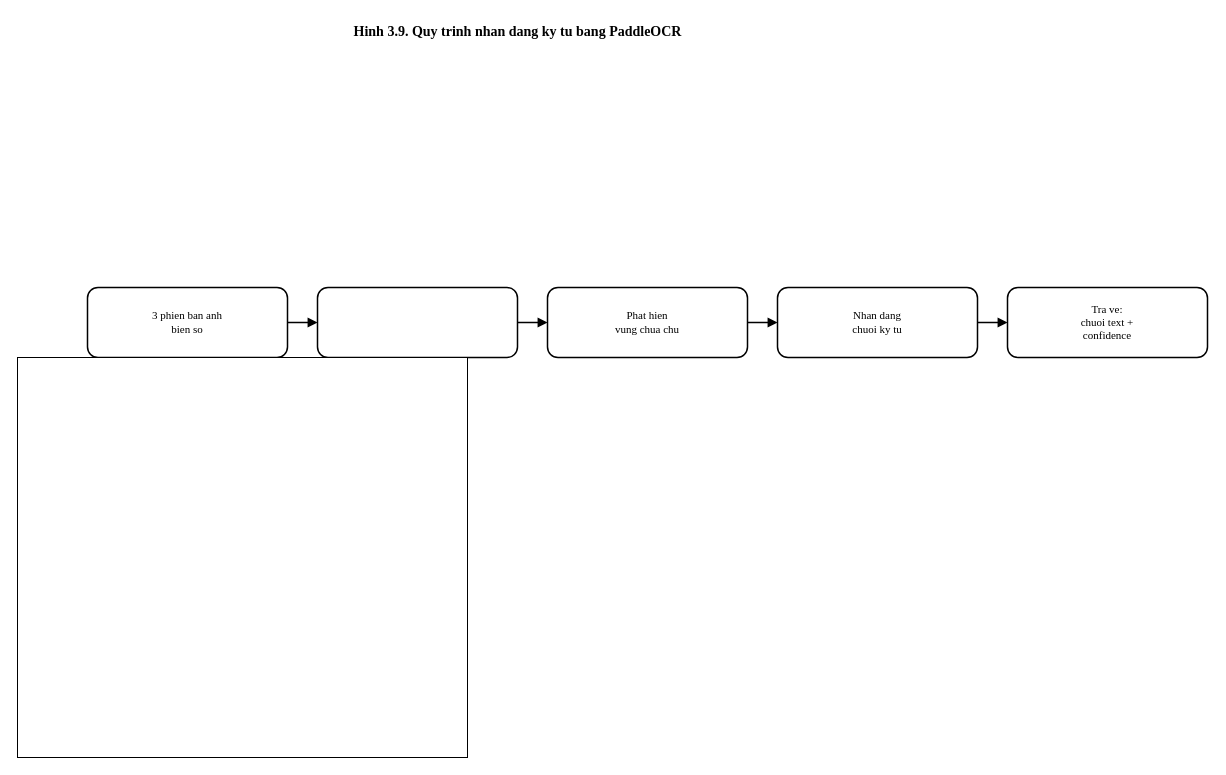
Image size: 1226x775. Some labels were removed from this diagram. Each missing label, with the centre of its shape:
PaddleOCR lang='en' use_angle_cls=False: the point at 417,322
Vi du: Dong 1: '51F' (0.95) Dong 2: '32488' (0.98) → Noi: '51F32488': the point at 242,557
